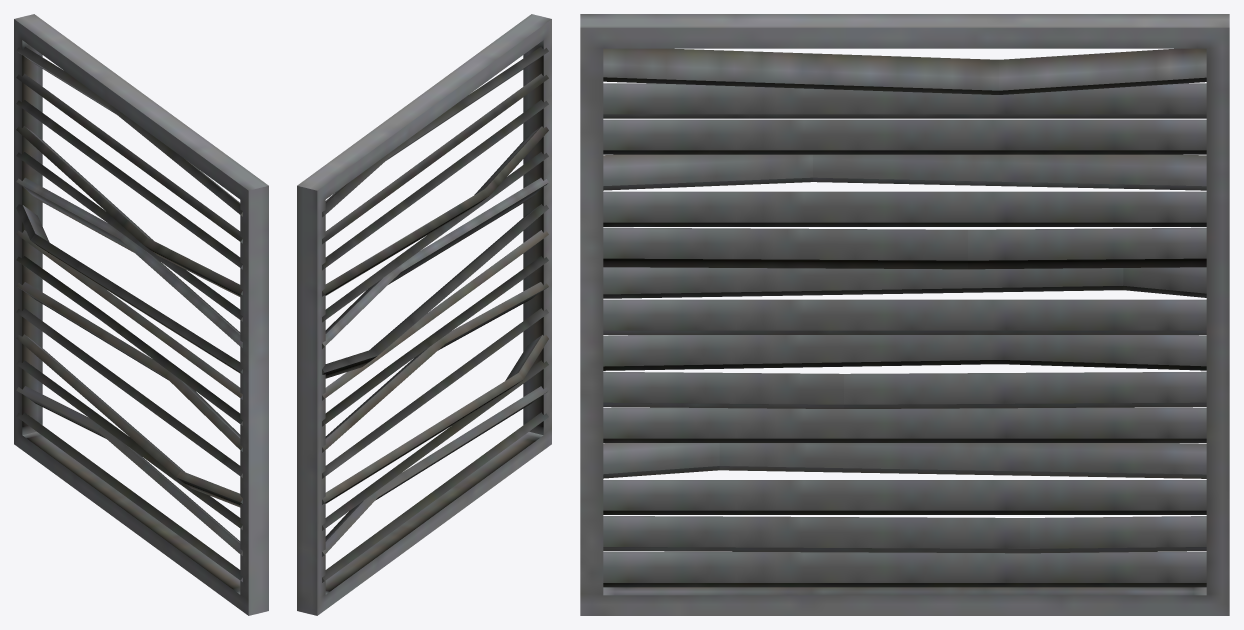
File: Urban_VentCoverSeeThroughDamaged_Model.fbx
The picture shows the model from 3 angles, left to right: view 1: azimuth 30°, elevation 25°; view 2: azimuth 150°, elevation 25°; view 3: azimuth 270°, elevation 25°; orthographic projection. The views are drawn at different scales.
Visible parts, largest first — view 1: Urban_VentCoverSeeThroughDamaged_Mesh; view 2: Urban_VentCoverSeeThroughDamaged_Mesh; view 3: Urban_VentCoverSeeThroughDamaged_Mesh.
Boxes of the visible parts, box(x1,y1,x2,y2) form: Urban_VentCoverSeeThroughDamaged_Mesh: box(14, 14, 268, 615); Urban_VentCoverSeeThroughDamaged_Mesh: box(297, 14, 551, 615); Urban_VentCoverSeeThroughDamaged_Mesh: box(580, 14, 1229, 615).
Size of the model in its own units: 0.1315 by 1 by 1.
